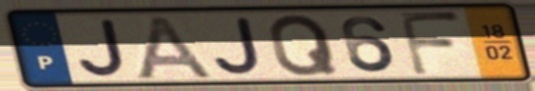6: (338, 14, 398, 74)
A: (131, 13, 217, 81)
F: (395, 9, 466, 78)
J: (211, 15, 265, 77), (76, 17, 129, 78)
Q: (266, 12, 342, 79)
